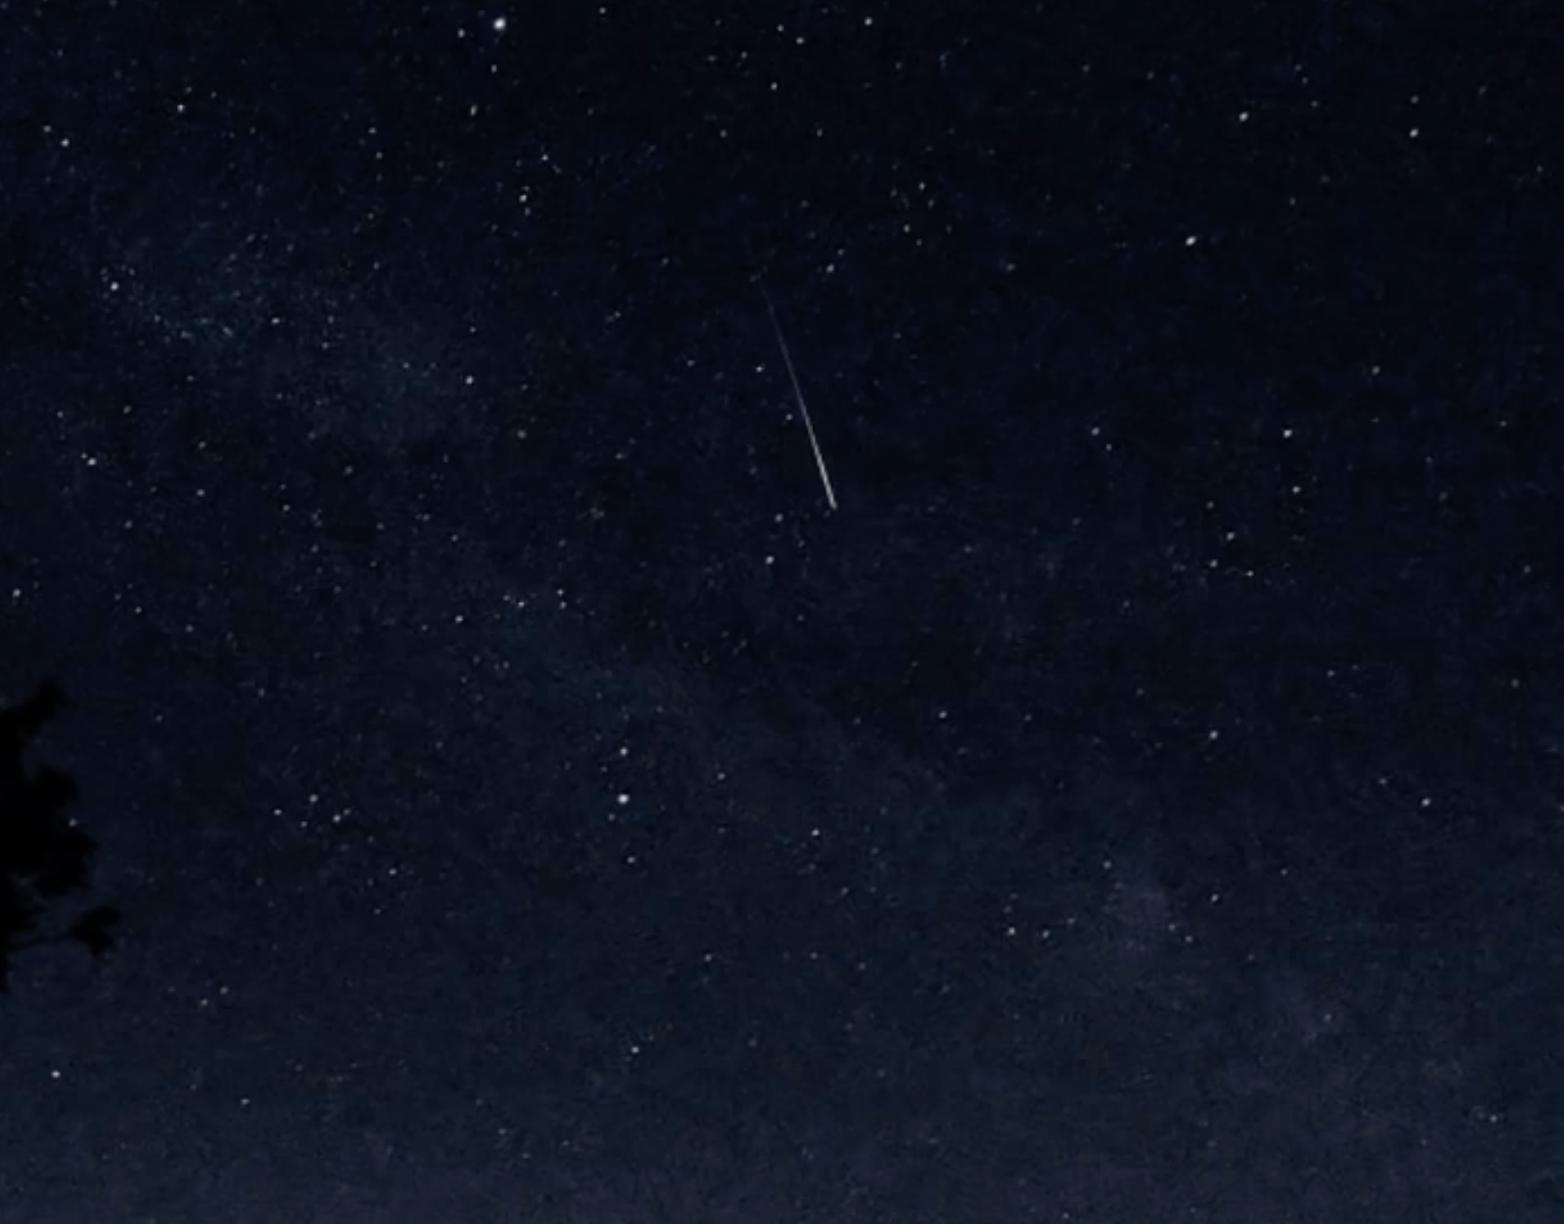meteorite: (717, 321, 857, 535)
